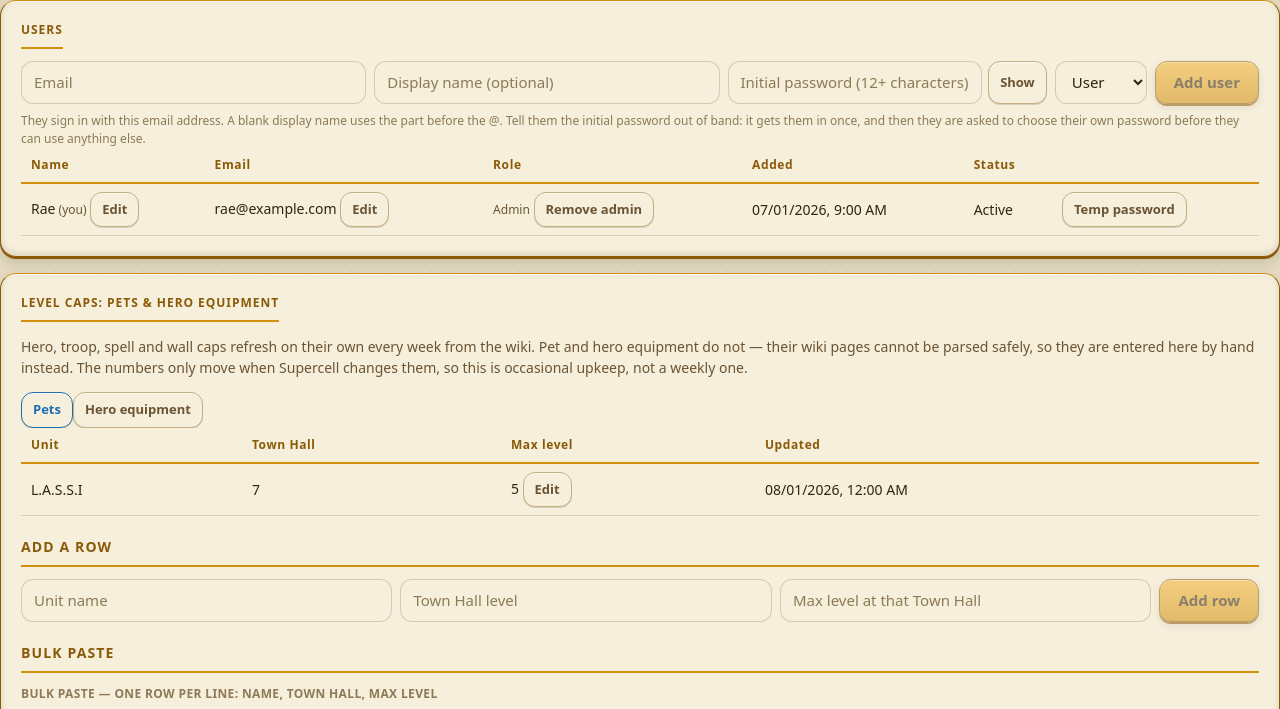
the pet & equipment reference card › shows pets by default and switches to equipment on request, one table at a time
This screenshot has width=1280, height=709.
Expected: the text "Rae" is shown, [31,198,56,218]
Expected: the text "L.A.S.S.I" is shown, [21,462,242,516]
Click the button "Hero equipment". click: point(138, 410)
box: [73,392,203,428]
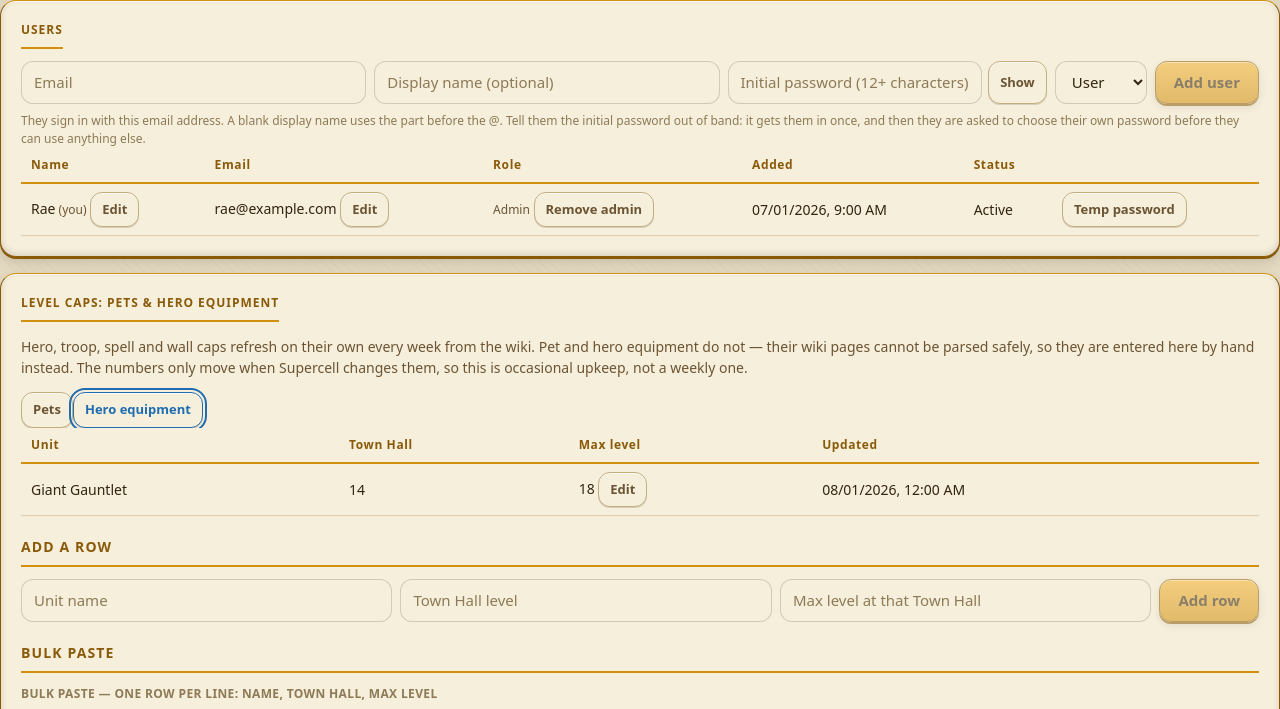
Expected: the text "Giant Gauntlet" is shown, [21,462,339,516]
